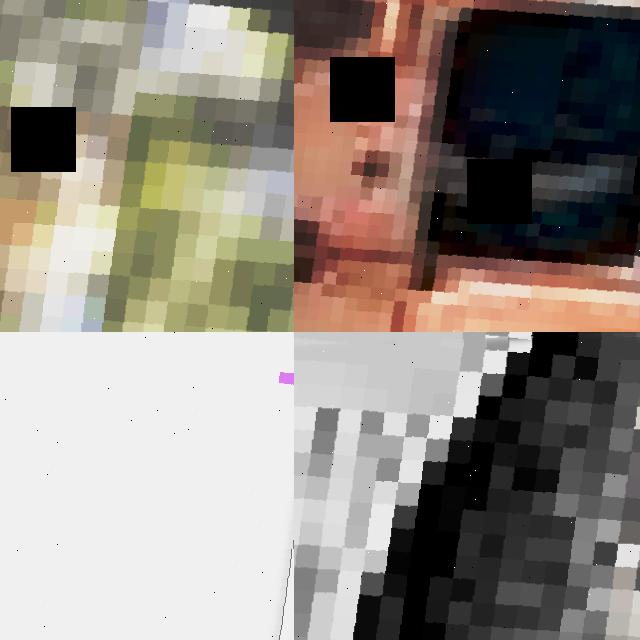arms: (294, 0, 640, 332), (294, 332, 640, 640), (0, 0, 294, 332), (0, 332, 294, 640), (294, 332, 640, 483)
